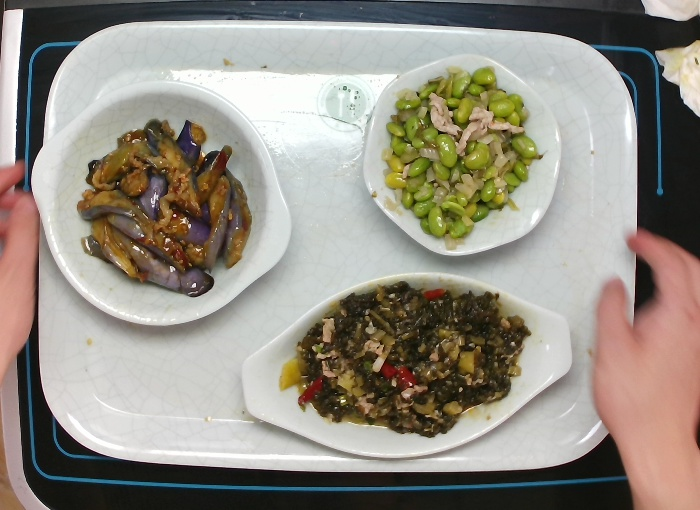JYsf-Shuang_Er_Wan: (25, 75, 299, 334)
JYsf-Yu_Pan: (239, 270, 580, 459)
WCQzf-Hua_Duo_Wan: (358, 44, 566, 262)
